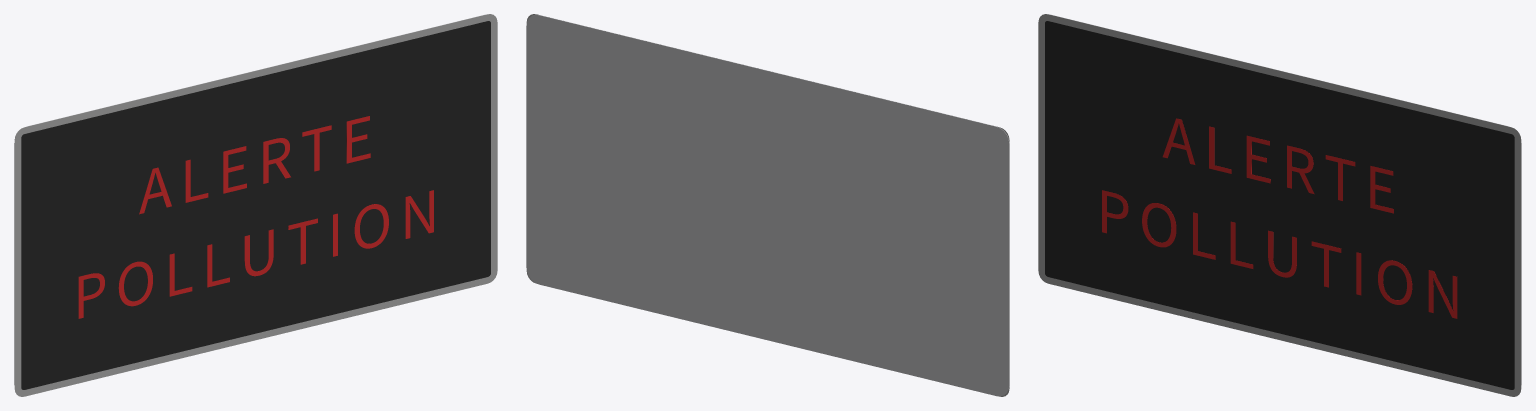
Rendered from ALERTE_POLLUTION.glb.
The picture shows the model from 3 angles, left to right: view 1: azimuth 30°, elevation 25°; view 2: azimuth 150°, elevation 25°; view 3: azimuth 330°, elevation 25°; orthographic projection.
Visible parts, largest first — view 1: ALERTE_POLLUTION_fond01, ALERTE_POLLUTION_cadre00, ALERTE_POLLUTION_txt03, ALERTE_POLLUTION_txt02, ALERTE_POLLUTION_dos; view 2: ALERTE_POLLUTION_dos; view 3: ALERTE_POLLUTION_fond01, ALERTE_POLLUTION_cadre00, ALERTE_POLLUTION_txt03, ALERTE_POLLUTION_txt02, ALERTE_POLLUTION_dos.
Part boxes in pixels (<box>): ALERTE_POLLUTION_fond01: <box>21,21,490,389</box>; ALERTE_POLLUTION_cadre00: <box>14,14,497,396</box>; ALERTE_POLLUTION_txt03: <box>78,190,433,318</box>; ALERTE_POLLUTION_txt02: <box>139,116,370,214</box>; ALERTE_POLLUTION_dos: <box>14,14,484,384</box>; ALERTE_POLLUTION_dos: <box>526,14,1009,396</box>; ALERTE_POLLUTION_fond01: <box>1045,21,1514,389</box>; ALERTE_POLLUTION_cadre00: <box>1038,14,1521,396</box>; ALERTE_POLLUTION_txt03: <box>1102,190,1457,318</box>; ALERTE_POLLUTION_txt02: <box>1162,118,1393,213</box>; ALERTE_POLLUTION_dos: <box>1051,14,1521,384</box>.
Bounding box in the file's own units: 1.5 × 0.8 × 0.0029.
